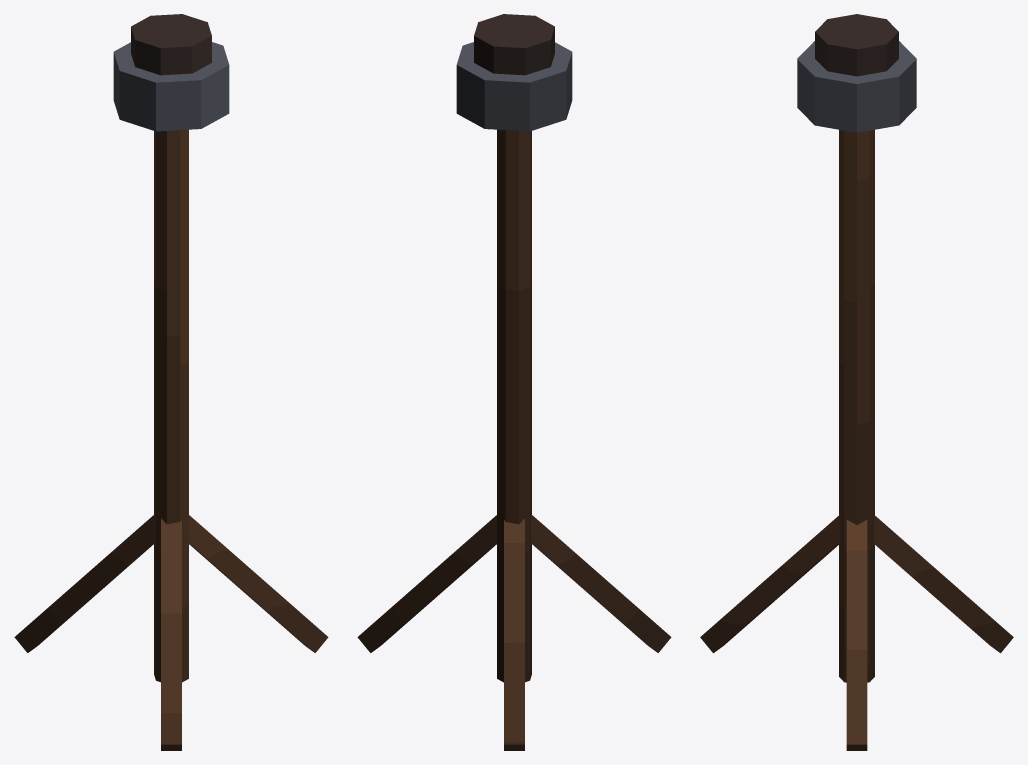
File: standing_torch.glb
The picture shows the model from 3 angles, left to right: view 1: azimuth 30°, elevation 25°; view 2: azimuth 150°, elevation 25°; view 3: azimuth 270°, elevation 25°; orthographic projection.
Size of the model in its own units: 0.4543 by 1.2 by 0.5246.
Materials: 1 (1 with a texture image).
